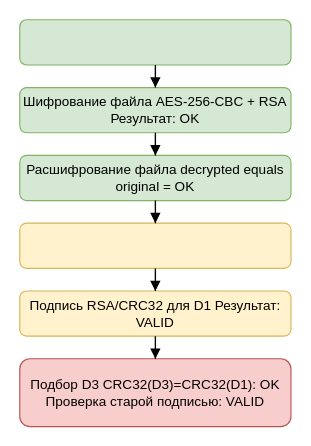
Image size: 311x446. Some labels were removed from this diagram. Each missing label, with the box of its shape:
Генерация ключей RSA Результат: OK: (19, 19, 291, 65)
Подпись RSA/SHA-256 Оригинал: VALID Изменённый файл: INVALID: (19, 222, 291, 268)
